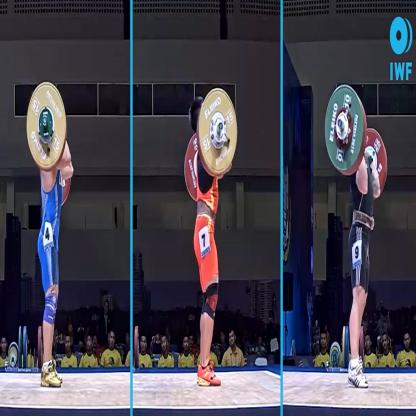Barbell: (321, 80, 371, 182), (193, 82, 241, 181), (25, 76, 71, 176)
